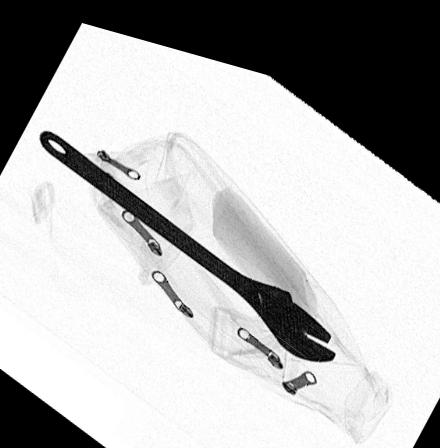Wrench: (37, 130, 337, 344)
